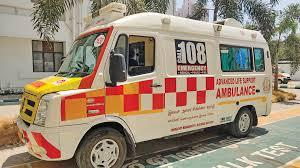ER: (17, 12, 270, 168)
